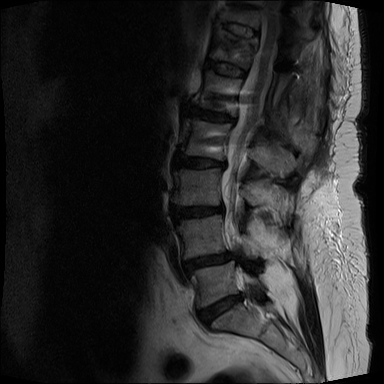Degenerative Disc Disease (DDD): (187, 103, 241, 129), (176, 154, 229, 174)
Lumbar Disc Bulge (LDB): (189, 288, 247, 332), (179, 247, 241, 280), (170, 196, 227, 225)
Normal IVD: (203, 59, 252, 83), (213, 21, 261, 39)
Spinal Stenosis (SS): (221, 245, 242, 268), (223, 110, 242, 130), (212, 196, 228, 219), (212, 155, 231, 173), (234, 286, 249, 305)
Spondylolisthesis: (175, 230, 246, 292)
